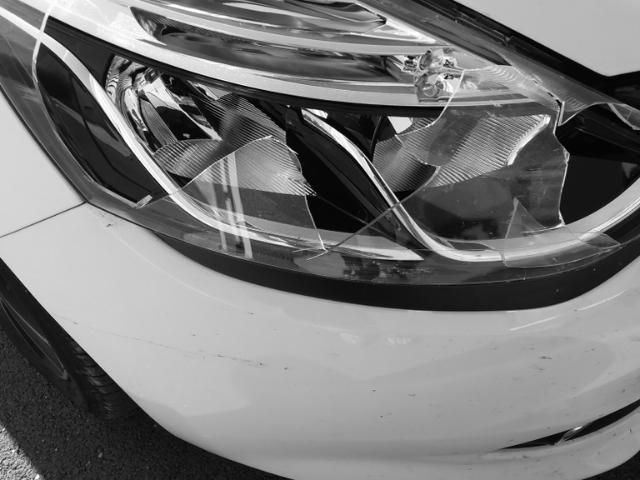Light: (31, 1, 619, 293)
